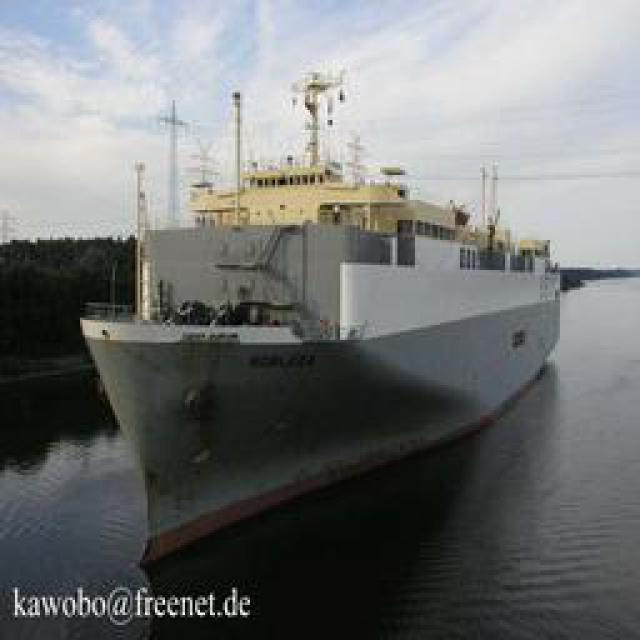Ship: (74, 102, 564, 570)
